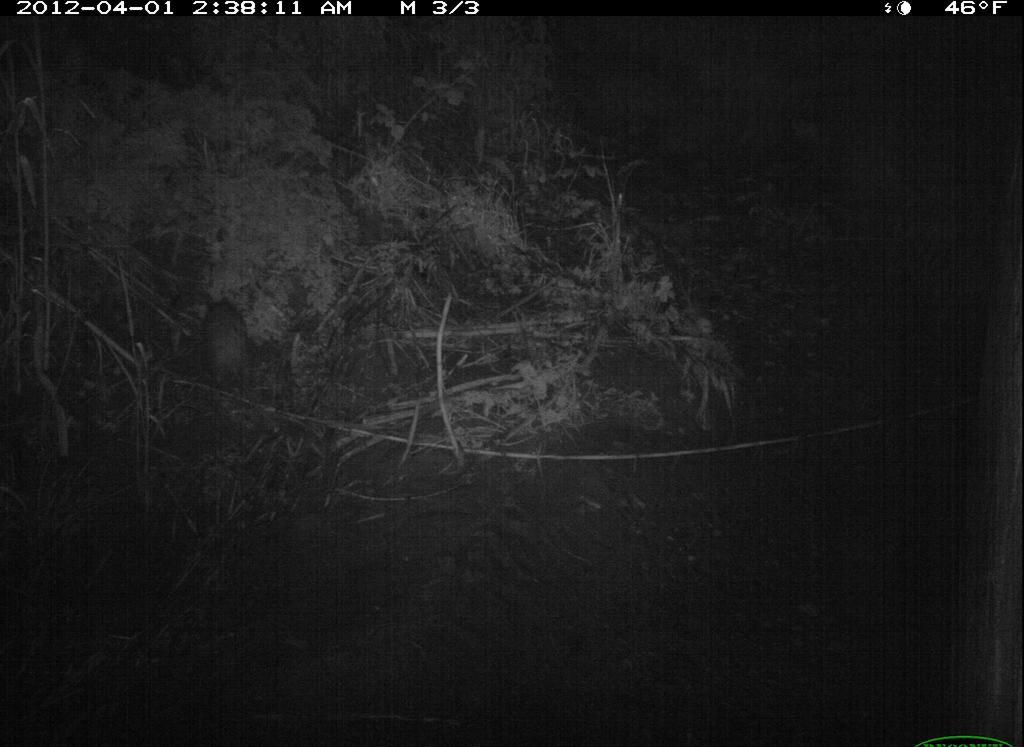opossum: (198, 294, 259, 402)
